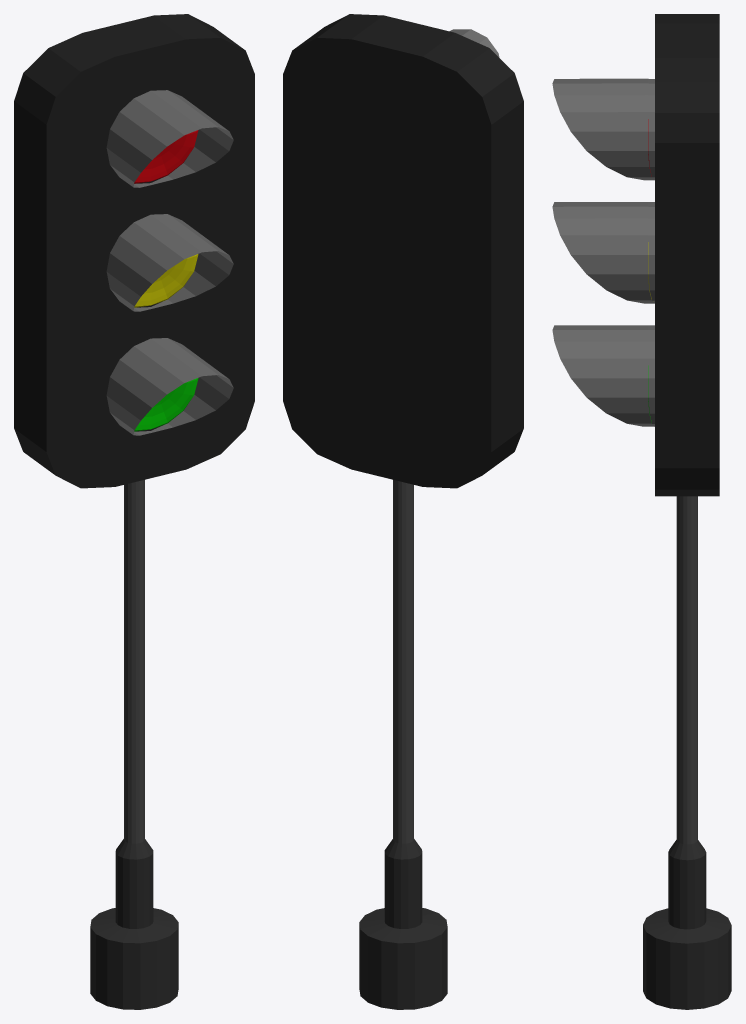
3 views of the same model, side by side, from view 1: azimuth 30°, elevation 25°; view 2: azimuth 150°, elevation 25°; view 3: azimuth 270°, elevation 25° (orthographic).
Visible parts, largest first — view 1: Ch02_Object_003; view 2: Ch02_Object_003; view 3: Ch02_Object_003.
Boxes of the visible parts, x1=… form: Ch02_Object_003: x1=14, y1=14, x2=254, y2=1009; Ch02_Object_003: x1=283, y1=14, x2=523, y2=1009; Ch02_Object_003: x1=552, y1=14, x2=731, y2=1009.
Bounding box in the file's own units: 0.6032 × 2.64 × 0.4514.
